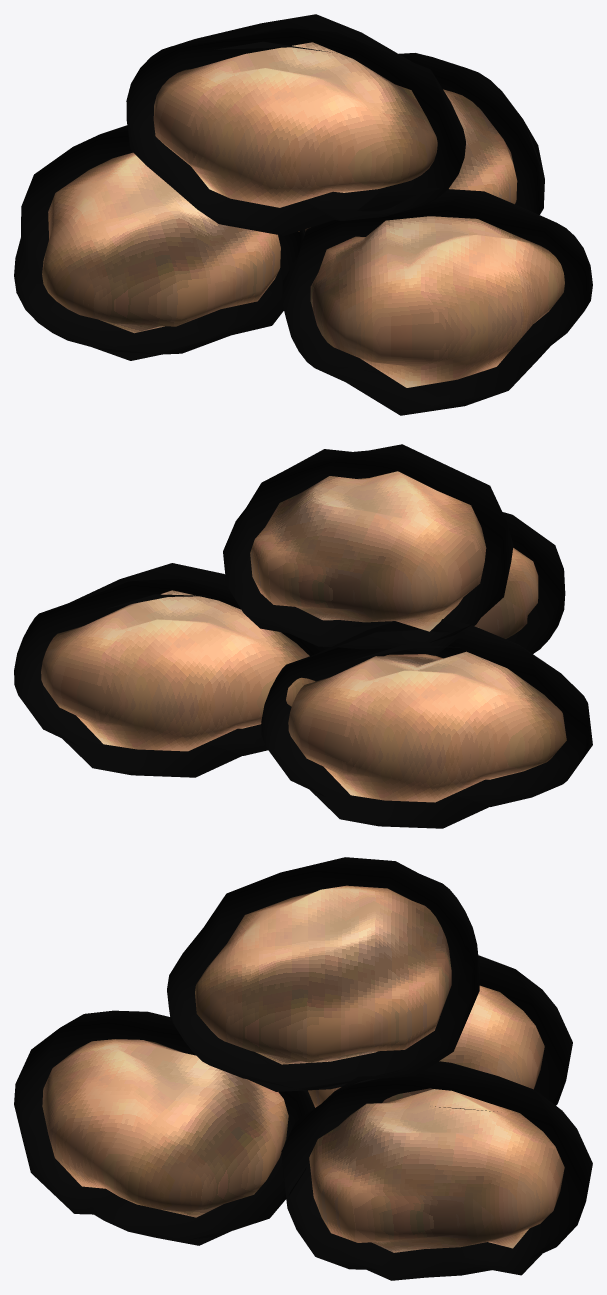
File: STONEPILE.fbx
3 renders of one model, top to bottom at view 1: azimuth 30°, elevation 25°; view 2: azimuth 150°, elevation 25°; view 3: azimuth 270°, elevation 25°, orthographic. The views are drawn at different scales.
Visible parts, largest first — view 1: STONEPILE; view 2: STONEPILE; view 3: STONEPILE.
Part boxes in pixels (x1,y1,x2,y2): STONEPILE: (14,14,592,415); STONEPILE: (14,444,592,828); STONEPILE: (14,857,592,1280).
Bounding box in the file's own units: 4812 × 2663 × 4549.
Materials: 1 (1 with a texture image).
